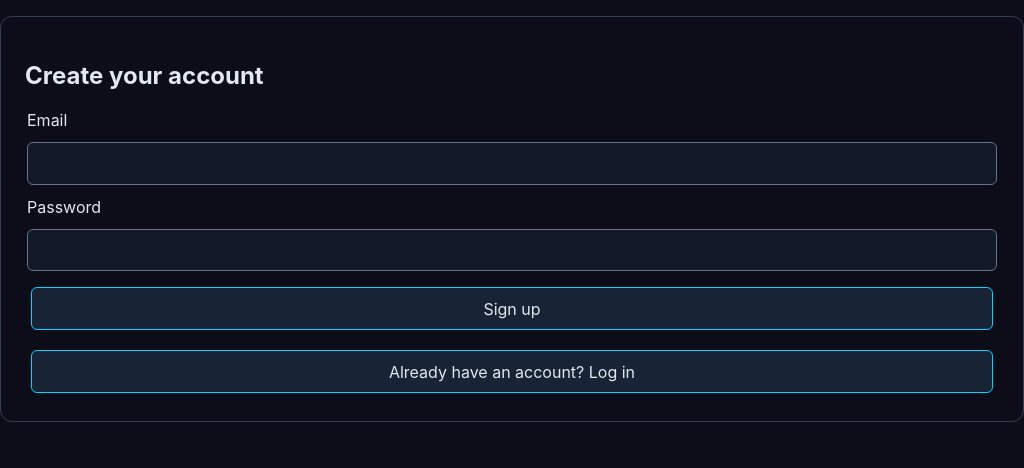
discards an expired session and displays authentication errors
Type "qa@example.test" into the field named "email".
click(512, 163); type("qa@example.test")  # box left=27, top=142, right=997, bottom=185
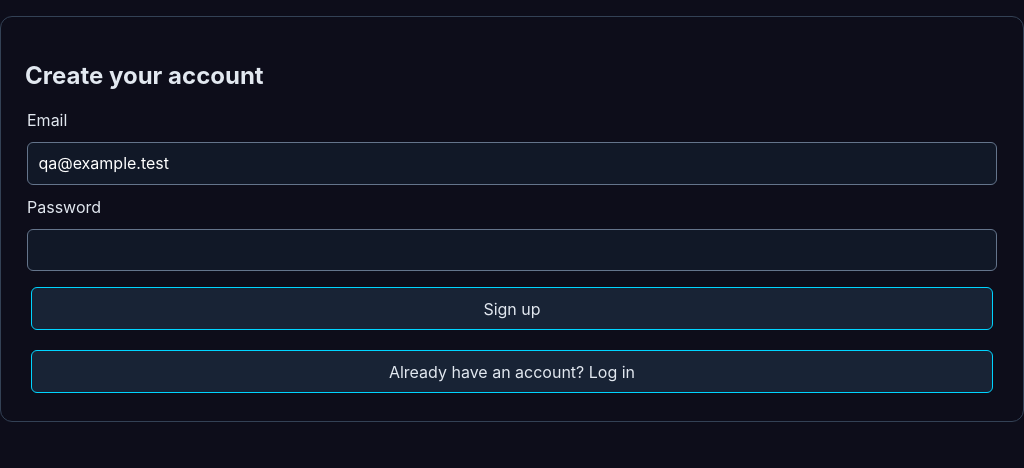
Type "test-password-only" into the password field named "password".
click(512, 250); type("test-password-only")  # box left=27, top=229, right=997, bottom=271
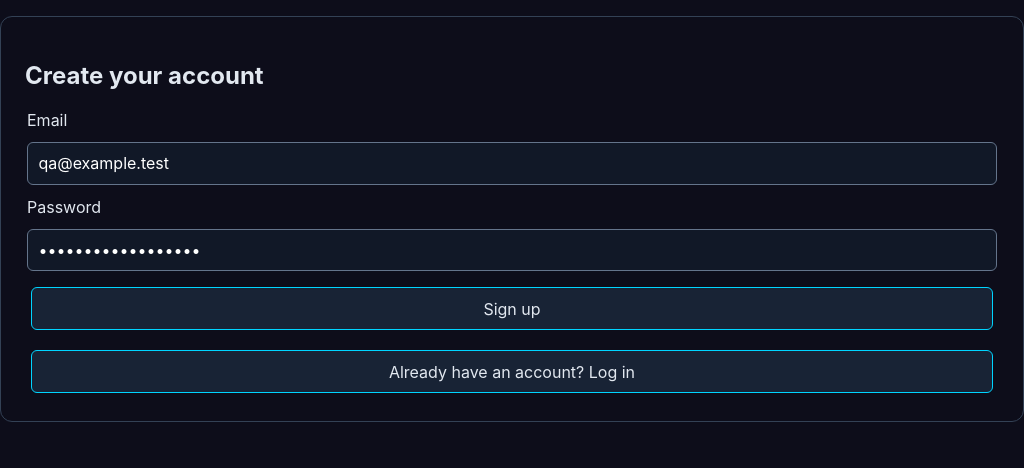
Submit the form, box left=25, top=110, right=999, bottom=397
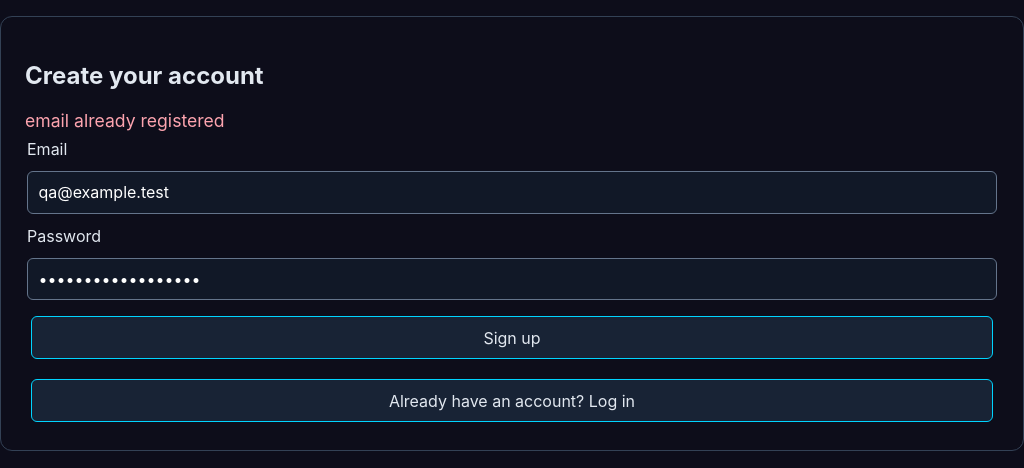
Result: the message "email already registered" is shown at left=25, top=110, right=225, bottom=131
